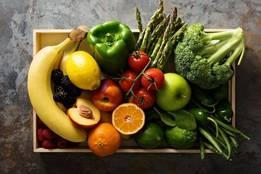apple: (156, 72, 190, 111), (89, 79, 122, 112), (127, 49, 149, 71)
